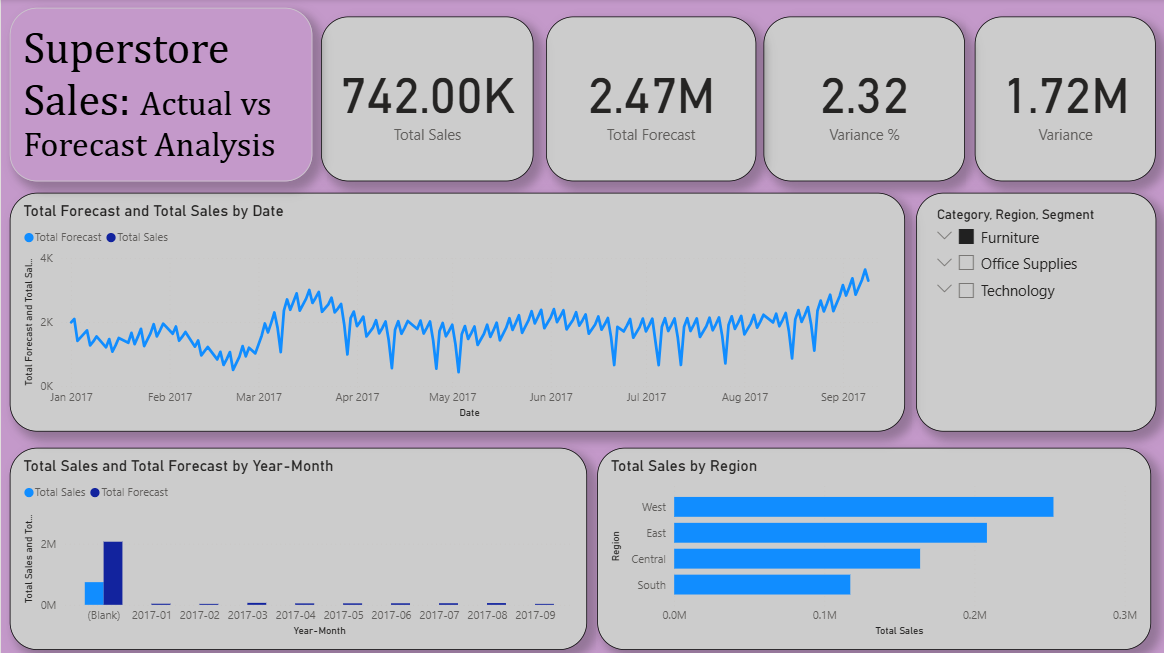

The dashboard page shown, as its layout file describes it:
{"tool":"powerbi","page":{"name":"Page 1","canvas":[1280,720],"ordinal":0},"visuals":[{"type":"card","fields":{"Values":["Calendar.Variance"]},"box":[1063.3,19.1,197.9,180.2],"z":0},{"type":"card","fields":{"Values":["Calendar.Variance %"]},"box":[832.6,19.1,219.7,180.2],"z":1000},{"type":"card","fields":{"Values":["forecast_export.Total Forecast"]},"box":[595.1,19.1,229.3,180.2],"z":2000},{"type":"clusteredColumnChart","fields":{"Category":["Calendar.Year-Month"],"Y":["Superstore csv.Total Sales","forecast_export.Total Forecast"]},"box":[9.6,490,630.6,221.1],"z":3000},{"type":"barChart","fields":{"Category":["Superstore csv.Region"],"Y":["Superstore csv.Total Sales"]},"box":[651.1,490,604.7,221.1],"z":4000},{"type":"slicer","fields":{"Values":["Superstore csv.Category","Superstore csv.Region","Superstore csv.Segment"]},"box":[999.1,211.6,262.1,260.7],"z":5000},{"type":"card","fields":{"Values":["Superstore csv.Total Sales"]},"box":[349.4,19.1,232,180.2],"z":6000},{"type":"lineChart","fields":{"Category":["Calendar.Date"],"Y":["forecast_export.Total Forecast","Superstore csv.Total Sales"]},"box":[9.6,211.6,977.3,260.7],"z":7000},{"type":"textbox","box":[9.6,9.6,330.3,189.7],"z":8000}]}

Visuals, with their boxes in screenshot pixels (x1, y1, x2, y2), scaled from the page's 1280x720 canvas onto the 1164x653 screenshot:
card - Calendar.Variance: <box>967,17,1147,181</box>
card - Calendar.Variance %: <box>757,17,957,181</box>
card - forecast_export.Total Forecast: <box>541,17,750,181</box>
clusteredColumnChart - Calendar.Year-Month x Superstore csv.Total Sales: <box>9,444,582,645</box>
barChart - Superstore csv.Region x Superstore csv.Total Sales: <box>592,444,1142,645</box>
slicer - Superstore csv.Category x Superstore csv.Region: <box>909,192,1147,428</box>
card - Superstore csv.Total Sales: <box>318,17,529,181</box>
lineChart - Calendar.Date x forecast_export.Total Forecast: <box>9,192,897,428</box>
textbox: <box>9,9,309,181</box>
